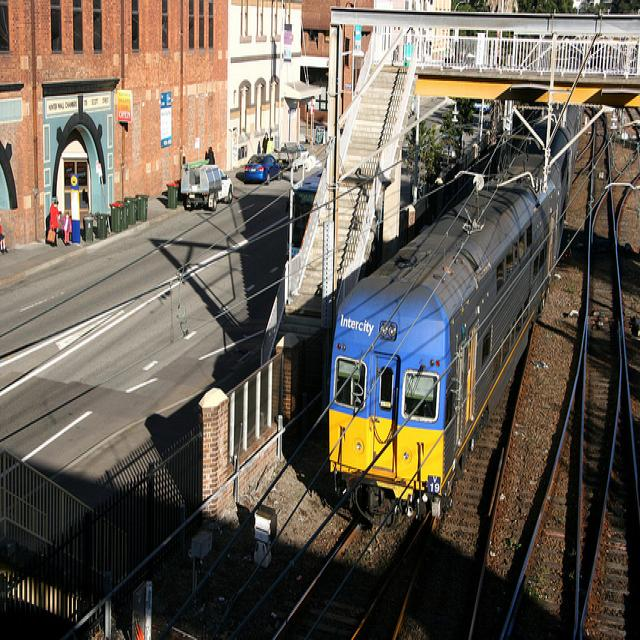Vehicle: (181, 162, 234, 213), (245, 153, 283, 185), (269, 140, 301, 166)
